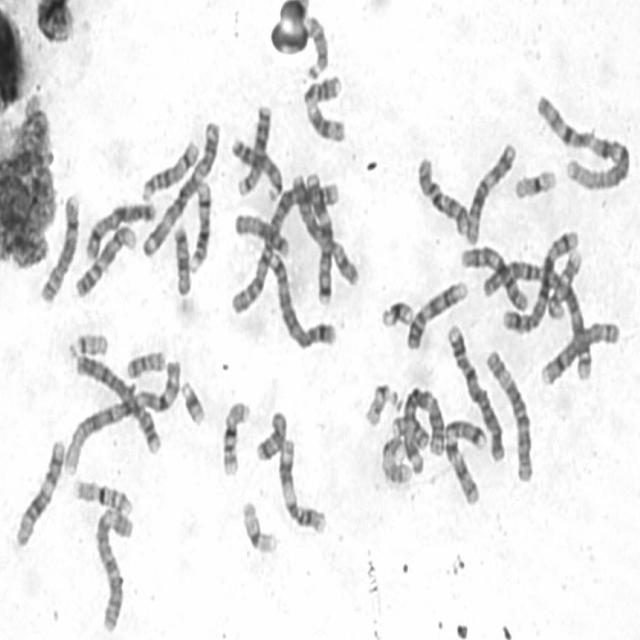A1: (62, 349, 180, 474), (532, 86, 633, 192)
A2: (227, 172, 341, 317), (479, 250, 596, 386)
A3: (138, 113, 222, 260), (396, 382, 446, 472)
B4: (72, 348, 164, 458), (444, 317, 506, 463)
B5: (500, 224, 583, 336), (264, 245, 337, 351)
C10: (457, 240, 531, 313), (414, 150, 472, 238)
C11: (274, 432, 329, 536), (300, 70, 347, 144)
C12: (11, 434, 66, 549), (462, 136, 518, 246)
C6: (482, 344, 536, 484), (90, 502, 134, 636)
C7: (302, 168, 336, 312), (440, 413, 488, 508)
C8: (538, 315, 622, 389), (36, 188, 82, 306)
C9: (72, 218, 138, 302), (403, 275, 469, 352)
D13: (228, 132, 284, 204), (233, 98, 273, 198)
D14: (138, 132, 202, 203), (186, 174, 213, 274)
D15: (231, 208, 292, 259), (301, 9, 330, 81)
E16: (218, 394, 251, 478), (70, 474, 134, 517)
E17: (545, 243, 584, 322), (378, 430, 413, 488)
E18: (252, 405, 288, 463), (170, 220, 193, 297)
F19: (238, 494, 279, 556), (511, 162, 558, 202)
F20: (388, 410, 430, 451), (123, 345, 167, 380)
G21: (177, 374, 207, 427), (377, 294, 415, 330)
G22: (361, 378, 396, 429), (65, 327, 109, 360)
X: (288, 167, 361, 288), (81, 196, 158, 262)
